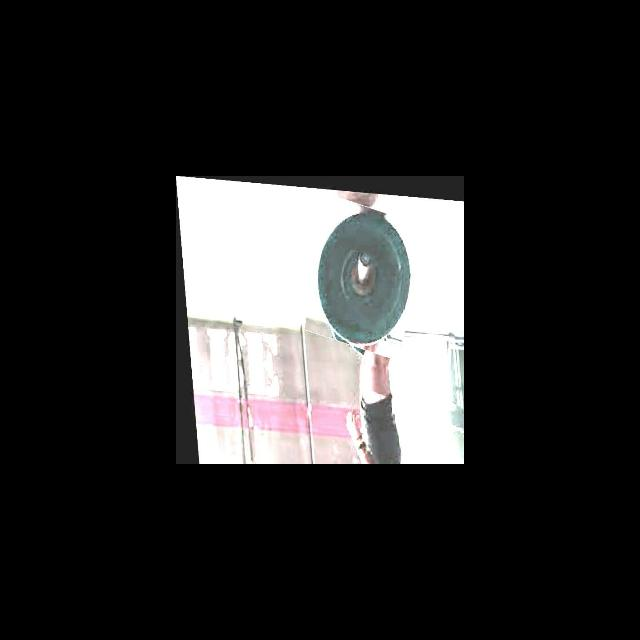barbell: (301, 193, 423, 354)
